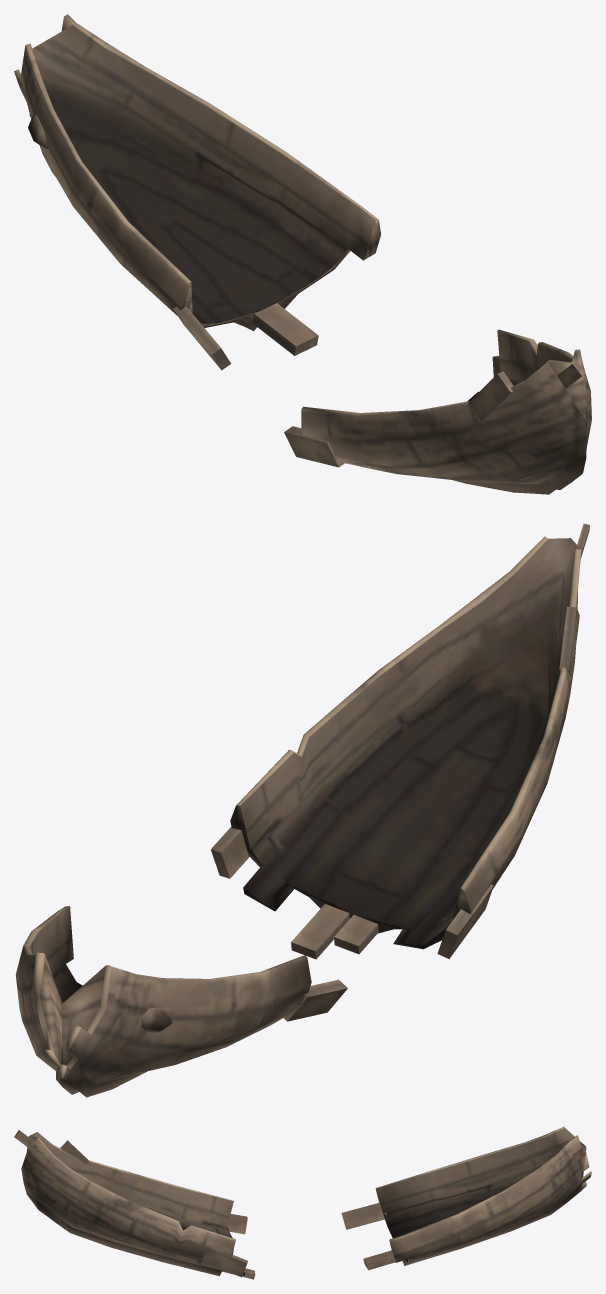
File: Shipwreck.fbx
3 views of the same model, one above another, from view 1: azimuth 30°, elevation 25°; view 2: azimuth 150°, elevation 25°; view 3: azimuth 270°, elevation 25° (orthographic). The views are drawn at different scales.
Visible parts, largest first — view 1: RearHull, FrontHull; view 2: FrontHull, RearHull; view 3: RearHull, FrontHull.
Part boxes in pixels (<box>): RearHull: <box>14,14,380,370</box>; FrontHull: <box>284,329,591,494</box>; FrontHull: <box>211,523,590,959</box>; RearHull: <box>15,906,347,1097</box>; RearHull: <box>341,1126,591,1270</box>; FrontHull: <box>14,1130,255,1279</box>.
Size of the model in its own units: 436 by 446 by 1706.
Materials: 1 (1 with a texture image).
